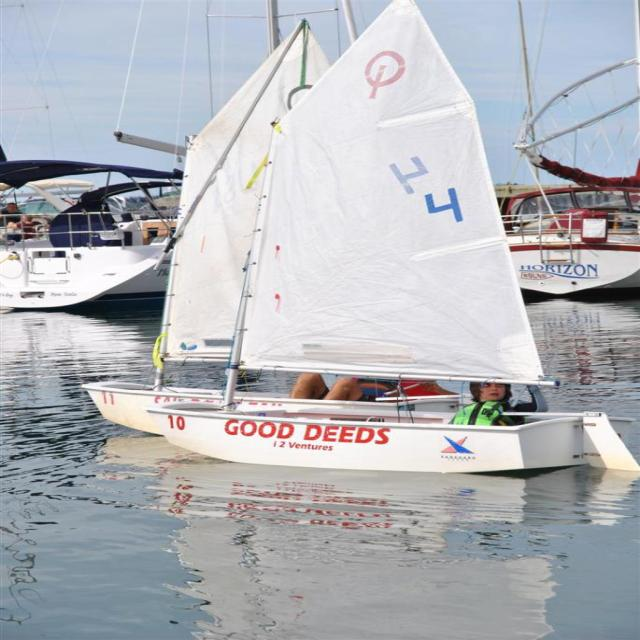Boat: (100, 0, 568, 496), (502, 0, 639, 300), (0, 138, 183, 314)
